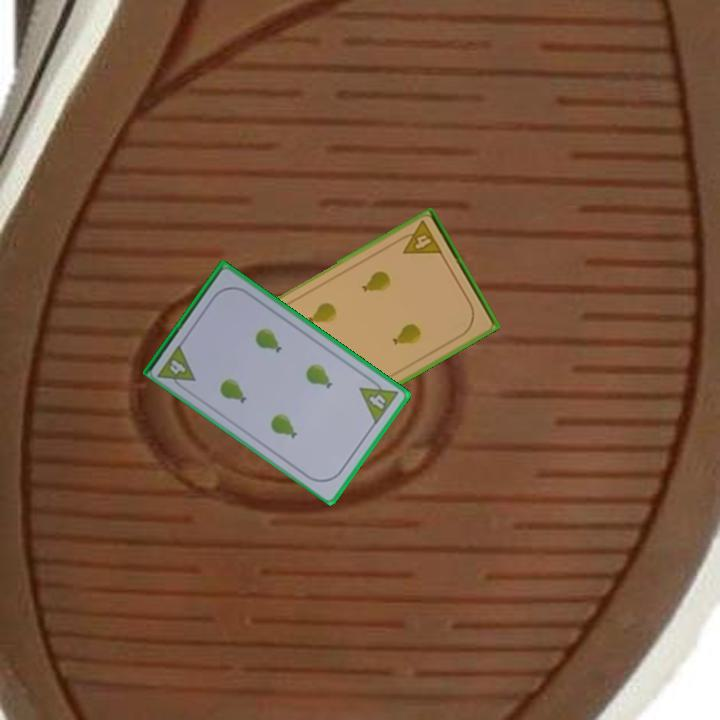4p: (356, 373, 401, 427), (155, 340, 198, 394), (394, 217, 445, 258)
